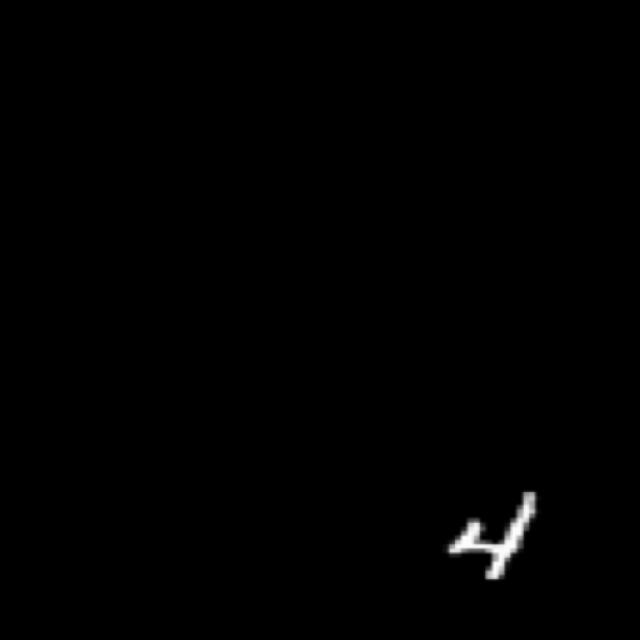four -4-: (430, 479, 566, 611)
